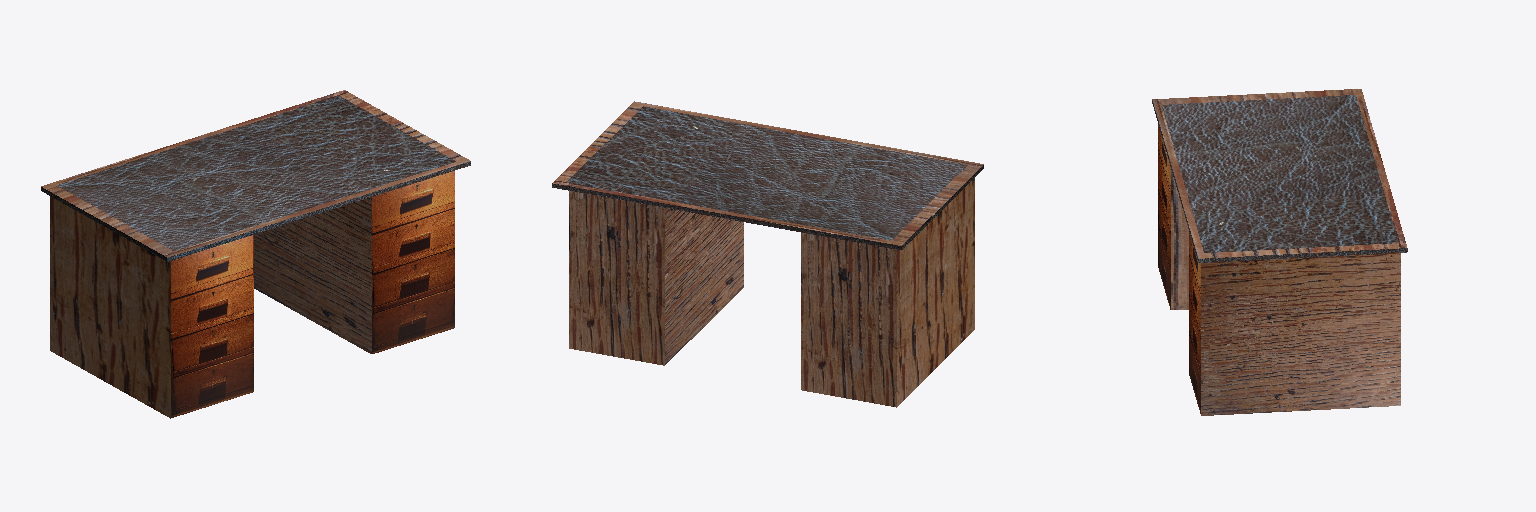
3 renders of one model, left to right at view 1: azimuth 30°, elevation 25°; view 2: azimuth 150°, elevation 25°; view 3: azimuth 270°, elevation 25°, orthographic.
Parts seen in each view (by area): view 1: desk1; view 2: desk1; view 3: desk1.
Boxes of the visible parts, x1=… form: desk1: x1=41, y1=90, x2=470, y2=418; desk1: x1=552, y1=101, x2=983, y2=407; desk1: x1=1152, y1=89, x2=1407, y2=415.
Size of the model in its own units: 1.66 by 0.7499 by 1.05.
Materials: 3 (3 with a texture image).